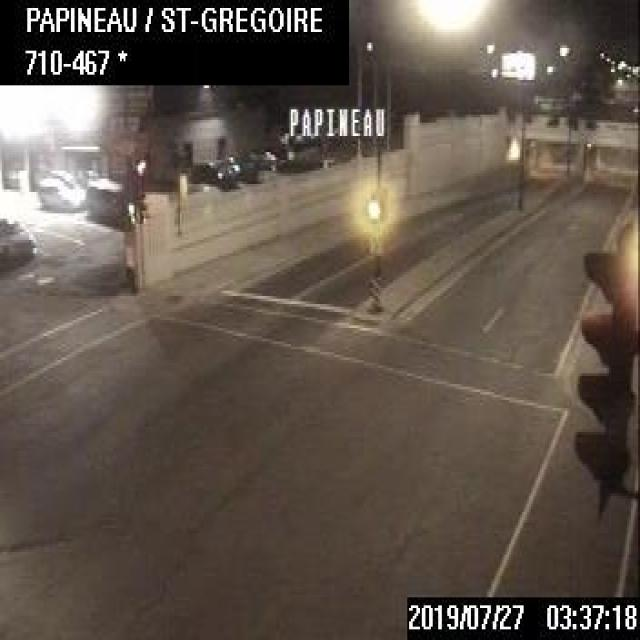vehicle: (82, 175, 131, 224), (0, 212, 35, 268), (36, 172, 86, 210), (193, 155, 239, 187)
